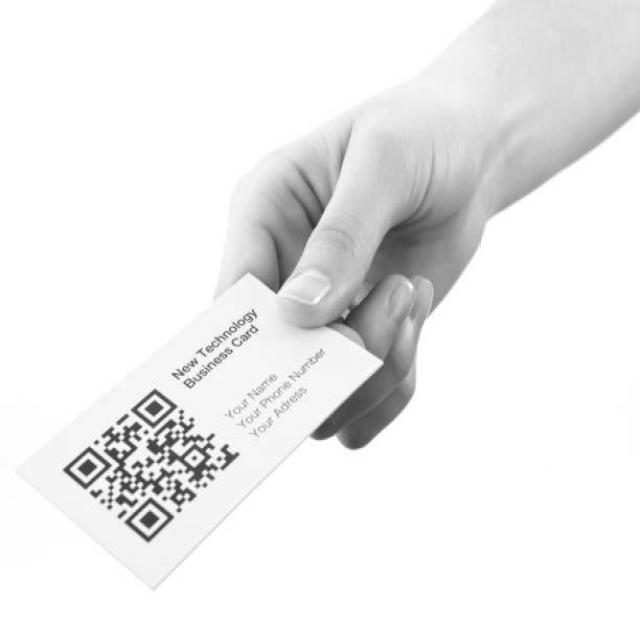QR-codes: (66, 382, 241, 544)
